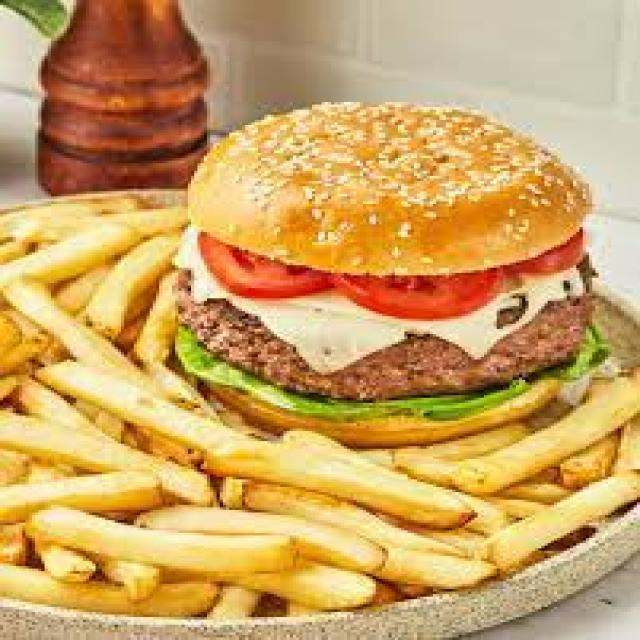감자튀김: (2, 204, 192, 612), (198, 438, 589, 606)
햄버거: (195, 116, 582, 437)
